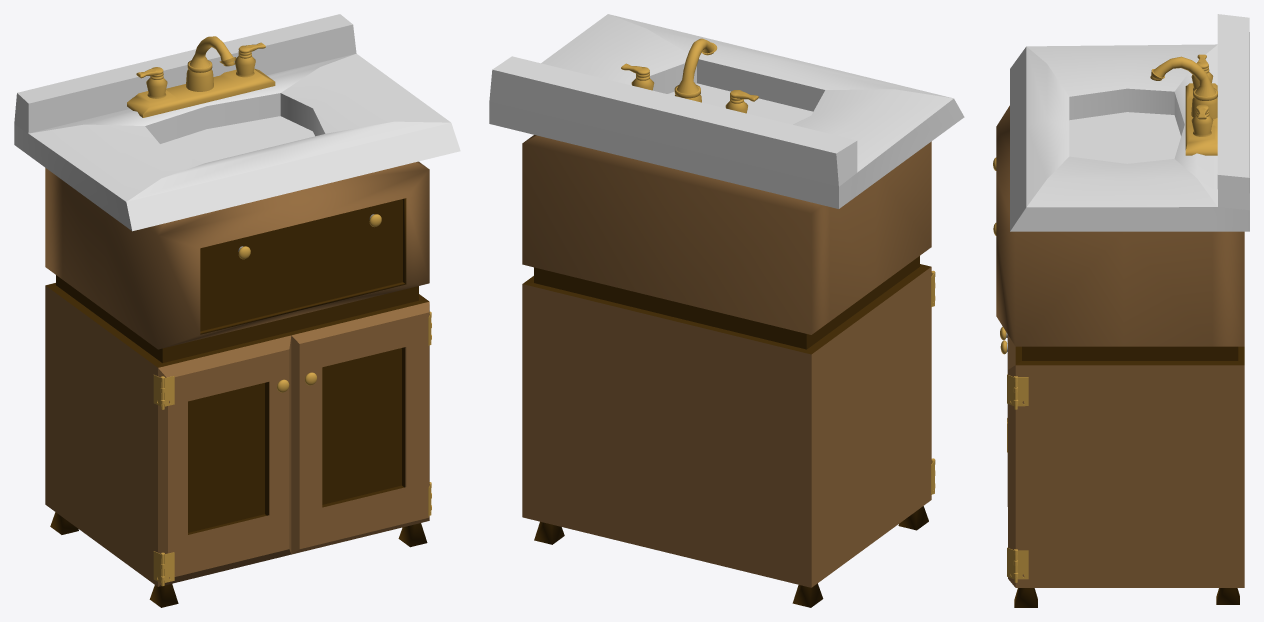
The model's file is apt_bthrm_sink_asset.fbx.
The picture shows the model from 3 angles, left to right: view 1: azimuth 30°, elevation 25°; view 2: azimuth 150°, elevation 25°; view 3: azimuth 270°, elevation 25°; orthographic projection. The views are drawn at different scales.
Parts seen in each view (by area): view 1: cabinet1; view 2: cabinet1; view 3: cabinet1.
Part boxes in pixels (<box>): cabinet1: <box>14,14,460,607</box>; cabinet1: <box>489,14,964,607</box>; cabinet1: <box>993,14,1249,607</box>.
Size of the model in its own units: 94.9 by 131 by 63.02.
